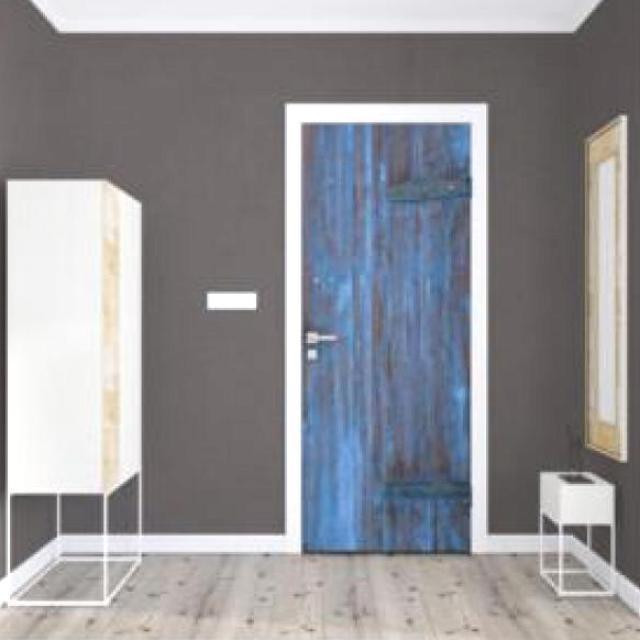door: (300, 117, 472, 554)
